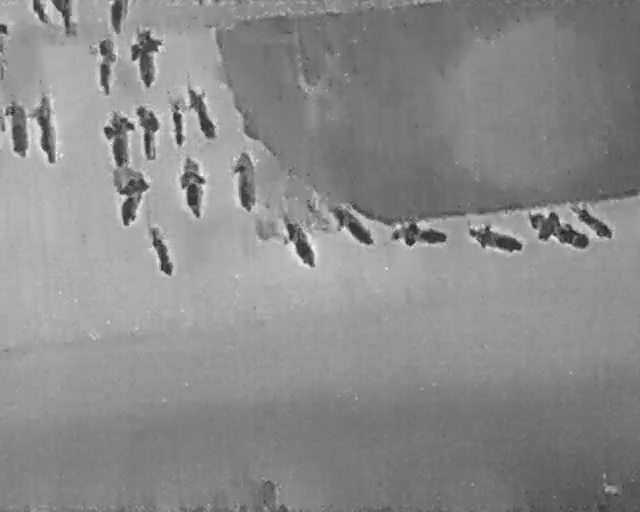Bicycle: (517, 199, 596, 261), (320, 195, 382, 256), (273, 212, 324, 278), (106, 167, 154, 233), (25, 88, 62, 169), (463, 215, 529, 258), (127, 23, 168, 89), (564, 198, 621, 243), (99, 107, 138, 170), (182, 82, 220, 144), (141, 223, 180, 281), (176, 153, 209, 220), (86, 35, 122, 96), (390, 218, 448, 249), (4, 96, 32, 160), (230, 148, 257, 211), (135, 103, 163, 162), (49, 0, 73, 38), (170, 101, 186, 147), (109, 0, 127, 38), (0, 23, 10, 77), (30, 0, 50, 26)
